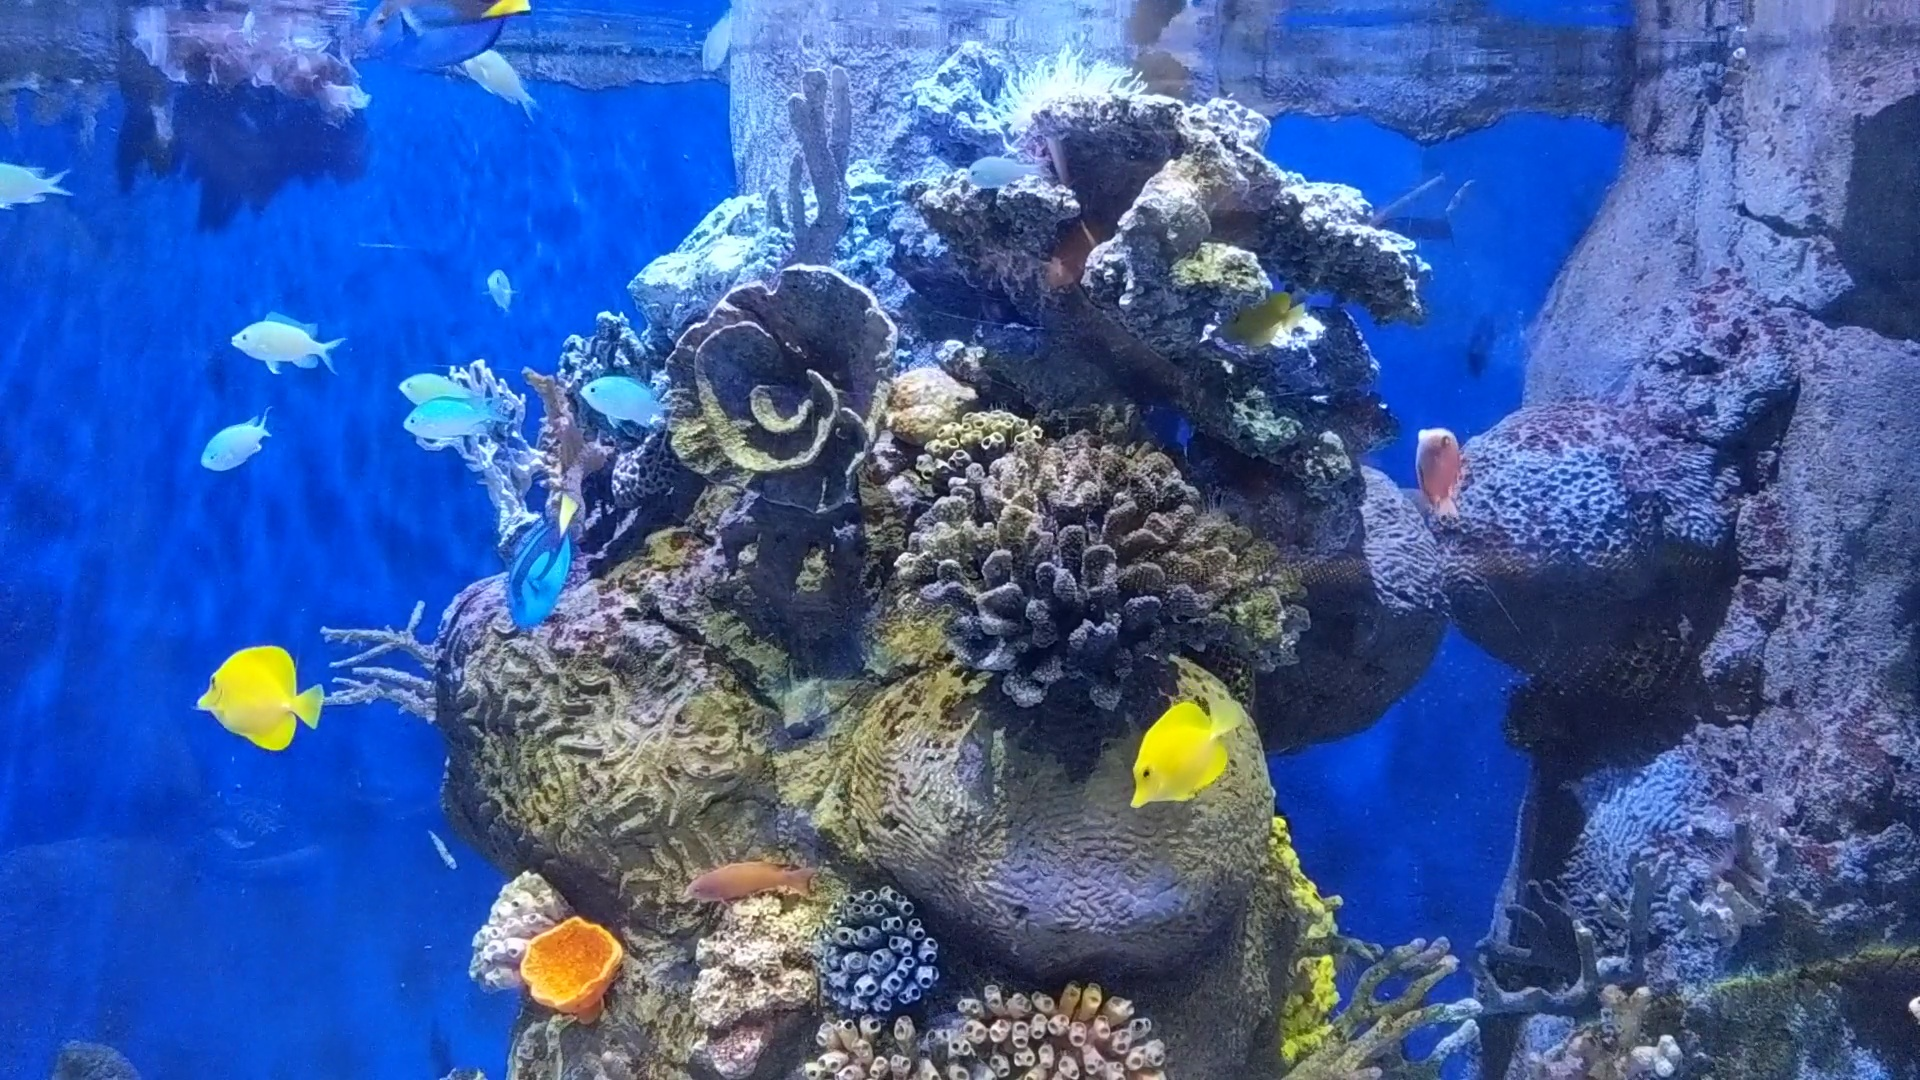blue tang surgeonfish: (484, 484, 585, 624)
damselfish: (210, 301, 342, 382), (572, 375, 678, 438), (190, 406, 270, 472), (394, 394, 495, 442), (390, 371, 484, 418), (957, 149, 1036, 187)
pink fish: (1398, 418, 1468, 522)
saddle butterfly fish: (1105, 686, 1258, 827), (194, 644, 322, 752)
